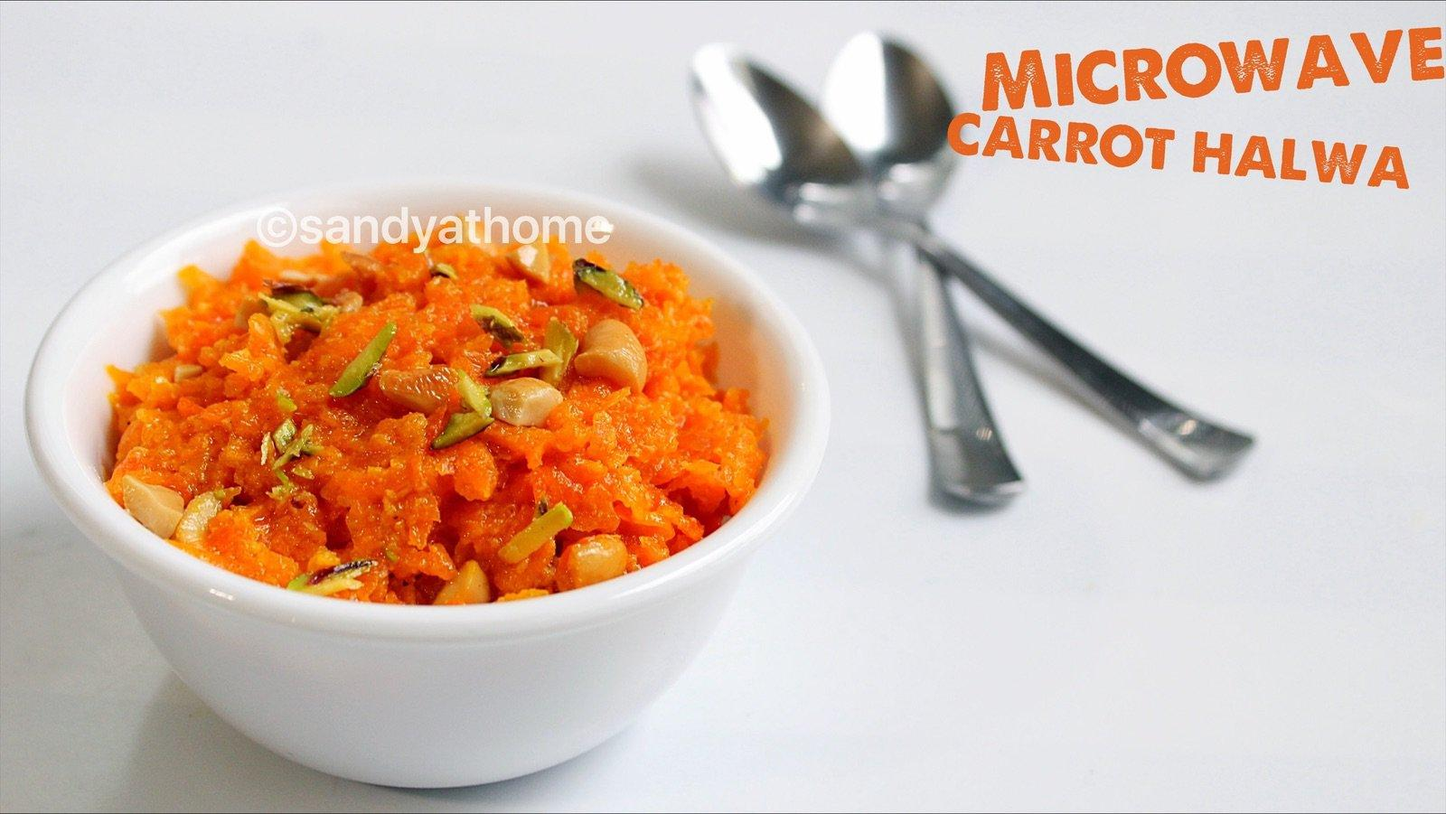Gajar ka halwa: (30, 238, 826, 787)
